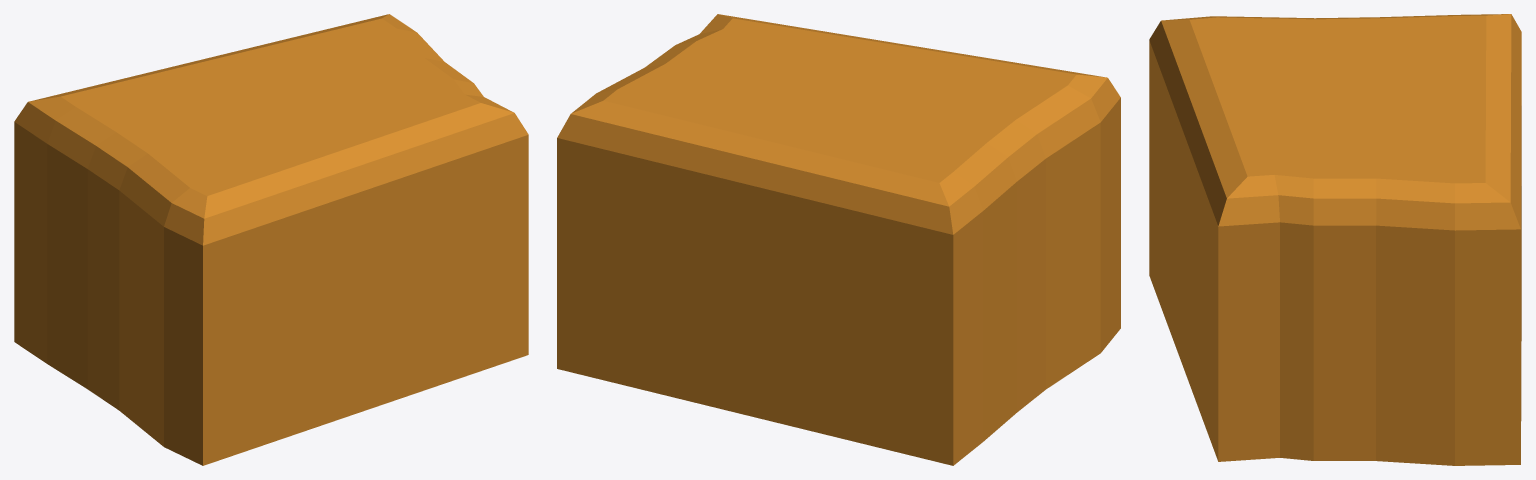
The model's file is Railway_Damaged_end_01.fbx.
The picture shows the model from 3 angles, left to right: view 1: azimuth 30°, elevation 25°; view 2: azimuth 150°, elevation 25°; view 3: azimuth 270°, elevation 25°; orthographic projection. The views are drawn at different scales.
Visible parts, largest first — view 1: damaged_end.001; view 2: damaged_end.001; view 3: damaged_end.001.
Part boxes in pixels (<box>): damaged_end.001: <box>14,14,528,465</box>; damaged_end.001: <box>557,14,1120,465</box>; damaged_end.001: <box>1149,14,1521,465</box>.
Bounding box in the file's own units: 159 × 100 × 126.
